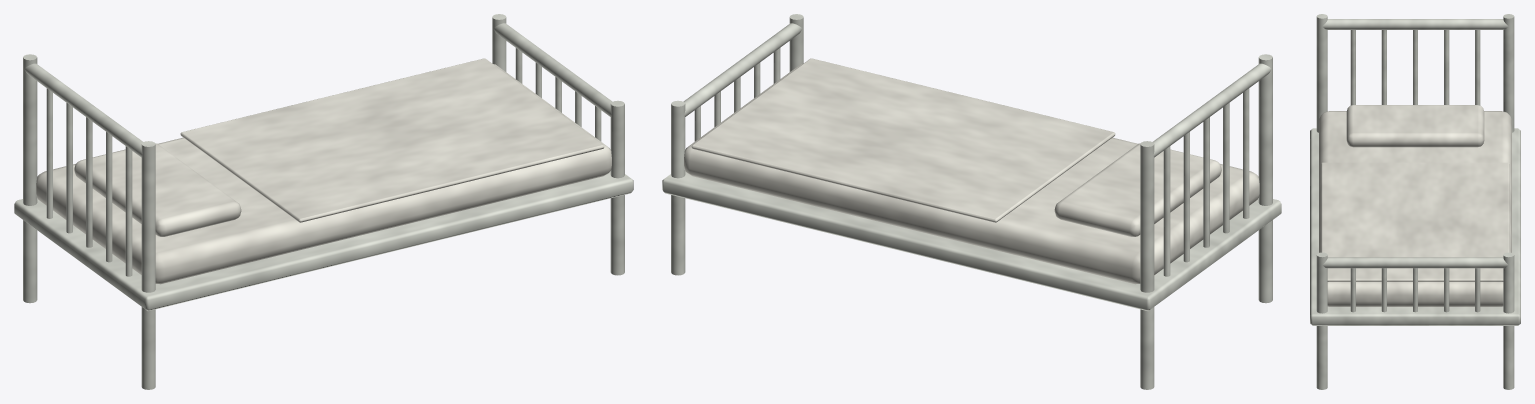
File: Furn_InfirmaryBed.fbx
The picture shows the model from 3 angles, left to right: view 1: azimuth 30°, elevation 25°; view 2: azimuth 150°, elevation 25°; view 3: azimuth 270°, elevation 25°; orthographic projection. The views are drawn at different scales.
Parts seen in each view (by area): view 1: Furn_InfirmaryBed_Mesh; view 2: Furn_InfirmaryBed_Mesh; view 3: Furn_InfirmaryBed_Mesh.
Part boxes in pixels (<box>): Furn_InfirmaryBed_Mesh: <box>14,14,633,389</box>; Furn_InfirmaryBed_Mesh: <box>662,14,1281,389</box>; Furn_InfirmaryBed_Mesh: <box>1310,14,1520,389</box>.
Size of the model in its own units: 2 by 0.95 by 0.95.
Materials: 2 (2 with a texture image).
